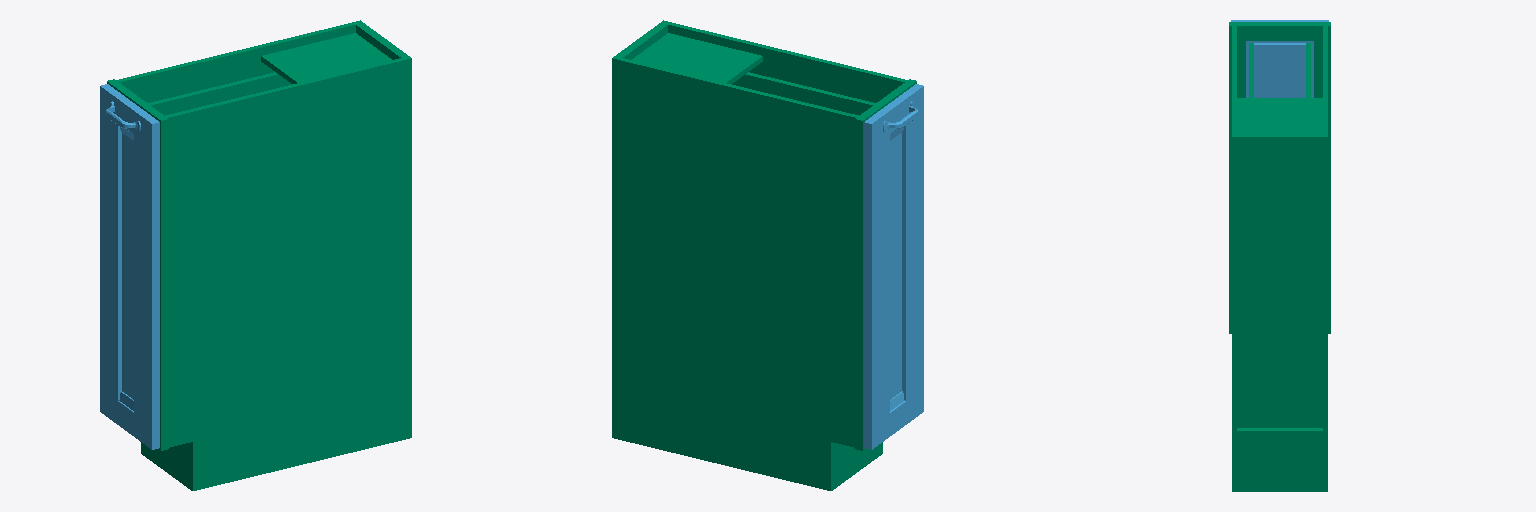
The robot description file, URDF, robot "partnet_1af4a1dfa4f94cd44da5feafe6f1c8fc":
<?xml version="1.0" ?>
<robot name="partnet_1af4a1dfa4f94cd44da5feafe6f1c8fc">
	<link name="base"/>
	<link name="link_0">
		<visual name="shelf-3">
			<origin xyz="0.007238580637776621 -0.23245800025737012 -0.5863339900970459"/>
			<geometry>
				<mesh filename="textured_objs/original-23.obj"/>
			</geometry>
		</visual>
		<visual name="shelf-4">
			<origin xyz="0.007238580637776621 -0.23245800025737012 -0.5863339900970459"/>
			<geometry>
				<mesh filename="textured_objs/original-34.obj"/>
			</geometry>
		</visual>
		<visual name="shelf-5">
			<origin xyz="0.007238580637776621 -0.23245800025737012 -0.5863339900970459"/>
			<geometry>
				<mesh filename="textured_objs/original-38.obj"/>
			</geometry>
		</visual>
		<visual name="cabinet_door_surface-7">
			<origin xyz="0.007238580637776621 -0.23245800025737012 -0.5863339900970459"/>
			<geometry>
				<mesh filename="textured_objs/original-42.obj"/>
			</geometry>
		</visual>
		<visual name="cabinet_door_surface-7">
			<origin xyz="0.007238580637776621 -0.23245800025737012 -0.5863339900970459"/>
			<geometry>
				<mesh filename="textured_objs/original-45.obj"/>
			</geometry>
		</visual>
		<visual name="cabinet_door_surface-7">
			<origin xyz="0.007238580637776621 -0.23245800025737012 -0.5863339900970459"/>
			<geometry>
				<mesh filename="textured_objs/original-43.obj"/>
			</geometry>
		</visual>
		<visual name="cabinet_door_surface-7">
			<origin xyz="0.007238580637776621 -0.23245800025737012 -0.5863339900970459"/>
			<geometry>
				<mesh filename="textured_objs/original-48.obj"/>
			</geometry>
		</visual>
		<visual name="cabinet_door_surface-7">
			<origin xyz="0.007238580637776621 -0.23245800025737012 -0.5863339900970459"/>
			<geometry>
				<mesh filename="textured_objs/original-44.obj"/>
			</geometry>
		</visual>
		<visual name="cabinet_door_surface-7">
			<origin xyz="0.007238580637776621 -0.23245800025737012 -0.5863339900970459"/>
			<geometry>
				<mesh filename="textured_objs/original-29.obj"/>
			</geometry>
		</visual>
		<visual name="cabinet_door_surface-7">
			<origin xyz="0.007238580637776621 -0.23245800025737012 -0.5863339900970459"/>
			<geometry>
				<mesh filename="textured_objs/original-47.obj"/>
			</geometry>
		</visual>
		<visual name="handle-8">
			<origin xyz="0.007238580637776621 -0.23245800025737012 -0.5863339900970459"/>
			<geometry>
				<mesh filename="textured_objs/original-49.obj"/>
			</geometry>
		</visual>
		<collision>
			<origin xyz="0.007238580637776621 -0.23245800025737012 -0.5863339900970459"/>
			<geometry>
				<mesh filename="textured_objs/original-23.obj"/>
			</geometry>
		</collision>
		<collision>
			<origin xyz="0.007238580637776621 -0.23245800025737012 -0.5863339900970459"/>
			<geometry>
				<mesh filename="textured_objs/original-34.obj"/>
			</geometry>
		</collision>
		<collision>
			<origin xyz="0.007238580637776621 -0.23245800025737012 -0.5863339900970459"/>
			<geometry>
				<mesh filename="textured_objs/original-38.obj"/>
			</geometry>
		</collision>
		<collision>
			<origin xyz="0.007238580637776621 -0.23245800025737012 -0.5863339900970459"/>
			<geometry>
				<mesh filename="textured_objs/original-42.obj"/>
			</geometry>
		</collision>
		<collision>
			<origin xyz="0.007238580637776621 -0.23245800025737012 -0.5863339900970459"/>
			<geometry>
				<mesh filename="textured_objs/original-45.obj"/>
			</geometry>
		</collision>
		<collision>
			<origin xyz="0.007238580637776621 -0.23245800025737012 -0.5863339900970459"/>
			<geometry>
				<mesh filename="textured_objs/original-43.obj"/>
			</geometry>
		</collision>
		<collision>
			<origin xyz="0.007238580637776621 -0.23245800025737012 -0.5863339900970459"/>
			<geometry>
				<mesh filename="textured_objs/original-48.obj"/>
			</geometry>
		</collision>
		<collision>
			<origin xyz="0.007238580637776621 -0.23245800025737012 -0.5863339900970459"/>
			<geometry>
				<mesh filename="textured_objs/original-44.obj"/>
			</geometry>
		</collision>
		<collision>
			<origin xyz="0.007238580637776621 -0.23245800025737012 -0.5863339900970459"/>
			<geometry>
				<mesh filename="textured_objs/original-29.obj"/>
			</geometry>
		</collision>
		<collision>
			<origin xyz="0.007238580637776621 -0.23245800025737012 -0.5863339900970459"/>
			<geometry>
				<mesh filename="textured_objs/original-47.obj"/>
			</geometry>
		</collision>
		<collision>
			<origin xyz="0.007238580637776621 -0.23245800025737012 -0.5863339900970459"/>
			<geometry>
				<mesh filename="textured_objs/original-49.obj"/>
			</geometry>
		</collision>
	</link>
	<joint name="joint_0" type="prismatic">
		<origin xyz="-0.007238580637776621 0.23245800025737012 0.5863339900970459"/>
		<axis xyz="0 0 1"/>
		<child link="link_0"/>
		<parent link="link_1"/>
		<limit lower="0" upper="0.8799999999999999"/>
	</joint>
	<link name="link_1">
		<visual name="vertical_side_panel-16">
			<origin xyz="0 0 0"/>
			<geometry>
				<mesh filename="textured_objs/original-11.obj"/>
			</geometry>
		</visual>
		<visual name="vertical_side_panel-16">
			<origin xyz="0 0 0"/>
			<geometry>
				<mesh filename="textured_objs/original-10.obj"/>
			</geometry>
		</visual>
		<visual name="vertical_side_panel-17">
			<origin xyz="0 0 0"/>
			<geometry>
				<mesh filename="textured_objs/original-15.obj"/>
			</geometry>
		</visual>
		<visual name="vertical_side_panel-17">
			<origin xyz="0 0 0"/>
			<geometry>
				<mesh filename="textured_objs/original-14.obj"/>
			</geometry>
		</visual>
		<visual name="back_panel-18">
			<origin xyz="0 0 0"/>
			<geometry>
				<mesh filename="textured_objs/original-30.obj"/>
			</geometry>
		</visual>
		<visual name="back_panel-18">
			<origin xyz="0 0 0"/>
			<geometry>
				<mesh filename="textured_objs/original-50.obj"/>
			</geometry>
		</visual>
		<visual name="back_panel-18">
			<origin xyz="0 0 0"/>
			<geometry>
				<mesh filename="textured_objs/original-5.obj"/>
			</geometry>
		</visual>
		<visual name="bottom_panel-19">
			<origin xyz="0 0 0"/>
			<geometry>
				<mesh filename="textured_objs/original-2.obj"/>
			</geometry>
		</visual>
		<visual name="top_panel-20">
			<origin xyz="0 0 0"/>
			<geometry>
				<mesh filename="textured_objs/original-19.obj"/>
			</geometry>
		</visual>
		<visual name="frame_vertical_bar-21">
			<origin xyz="0 0 0"/>
			<geometry>
				<mesh filename="textured_objs/original-25.obj"/>
			</geometry>
		</visual>
		<visual name="frame_vertical_bar-22">
			<origin xyz="0 0 0"/>
			<geometry>
				<mesh filename="textured_objs/original-26.obj"/>
			</geometry>
		</visual>
		<visual name="frame_vertical_bar-23">
			<origin xyz="0 0 0"/>
			<geometry>
				<mesh filename="textured_objs/original-27.obj"/>
			</geometry>
		</visual>
		<visual name="frame_vertical_bar-24">
			<origin xyz="0 0 0"/>
			<geometry>
				<mesh filename="textured_objs/original-24.obj"/>
			</geometry>
		</visual>
		<visual name="frame_vertical_bar-25">
			<origin xyz="0 0 0"/>
			<geometry>
				<mesh filename="textured_objs/original-3.obj"/>
			</geometry>
		</visual>
		<visual name="frame_vertical_bar-26">
			<origin xyz="0 0 0"/>
			<geometry>
				<mesh filename="textured_objs/original-7.obj"/>
			</geometry>
		</visual>
		<visual name="frame_horizontal_bar-27">
			<origin xyz="0 0 0"/>
			<geometry>
				<mesh filename="textured_objs/original-8.obj"/>
			</geometry>
		</visual>
		<visual name="frame_horizontal_bar-28">
			<origin xyz="0 0 0"/>
			<geometry>
				<mesh filename="textured_objs/original-28.obj"/>
			</geometry>
		</visual>
		<visual name="frame_horizontal_bar-29">
			<origin xyz="0 0 0"/>
			<geometry>
				<mesh filename="textured_objs/original-39.obj"/>
			</geometry>
		</visual>
		<visual name="frame_horizontal_bar-30">
			<origin xyz="0 0 0"/>
			<geometry>
				<mesh filename="textured_objs/original-32.obj"/>
			</geometry>
		</visual>
		<visual name="frame_horizontal_bar-31">
			<origin xyz="0 0 0"/>
			<geometry>
				<mesh filename="textured_objs/original-33.obj"/>
			</geometry>
		</visual>
		<visual name="frame_horizontal_bar-32">
			<origin xyz="0 0 0"/>
			<geometry>
				<mesh filename="textured_objs/original-36.obj"/>
			</geometry>
		</visual>
		<visual name="frame_horizontal_bar-33">
			<origin xyz="0 0 0"/>
			<geometry>
				<mesh filename="textured_objs/original-37.obj"/>
			</geometry>
		</visual>
		<visual name="frame_horizontal_bar-34">
			<origin xyz="0 0 0"/>
			<geometry>
				<mesh filename="textured_objs/original-4.obj"/>
			</geometry>
		</visual>
		<visual name="frame_horizontal_bar-35">
			<origin xyz="0 0 0"/>
			<geometry>
				<mesh filename="textured_objs/original-22.obj"/>
			</geometry>
		</visual>
		<visual name="frame_horizontal_bar-36">
			<origin xyz="0 0 0"/>
			<geometry>
				<mesh filename="textured_objs/original-40.obj"/>
			</geometry>
		</visual>
		<visual name="frame_horizontal_bar-37">
			<origin xyz="0 0 0"/>
			<geometry>
				<mesh filename="textured_objs/original-6.obj"/>
			</geometry>
		</visual>
		<visual name="base_side_panel-12">
			<origin xyz="0 0 0"/>
			<geometry>
				<mesh filename="textured_objs/original-17.obj"/>
			</geometry>
		</visual>
		<visual name="base_side_panel-13">
			<origin xyz="0 0 0"/>
			<geometry>
				<mesh filename="textured_objs/original-12.obj"/>
			</geometry>
		</visual>
		<visual name="base_side_panel-14">
			<origin xyz="0 0 0"/>
			<geometry>
				<mesh filename="textured_objs/original-18.obj"/>
			</geometry>
		</visual>
		<visual name="base_side_panel-15">
			<origin xyz="0 0 0"/>
			<geometry>
				<mesh filename="textured_objs/original-16.obj"/>
			</geometry>
		</visual>
		<collision>
			<origin xyz="0 0 0"/>
			<geometry>
				<mesh filename="textured_objs/original-11.obj"/>
			</geometry>
		</collision>
		<collision>
			<origin xyz="0 0 0"/>
			<geometry>
				<mesh filename="textured_objs/original-10.obj"/>
			</geometry>
		</collision>
		<collision>
			<origin xyz="0 0 0"/>
			<geometry>
				<mesh filename="textured_objs/original-15.obj"/>
			</geometry>
		</collision>
		<collision>
			<origin xyz="0 0 0"/>
			<geometry>
				<mesh filename="textured_objs/original-14.obj"/>
			</geometry>
		</collision>
		<collision>
			<origin xyz="0 0 0"/>
			<geometry>
				<mesh filename="textured_objs/original-30.obj"/>
			</geometry>
		</collision>
		<collision>
			<origin xyz="0 0 0"/>
			<geometry>
				<mesh filename="textured_objs/original-50.obj"/>
			</geometry>
		</collision>
		<collision>
			<origin xyz="0 0 0"/>
			<geometry>
				<mesh filename="textured_objs/original-5.obj"/>
			</geometry>
		</collision>
		<collision>
			<origin xyz="0 0 0"/>
			<geometry>
				<mesh filename="textured_objs/original-2.obj"/>
			</geometry>
		</collision>
		<collision>
			<origin xyz="0 0 0"/>
			<geometry>
				<mesh filename="textured_objs/original-19.obj"/>
			</geometry>
		</collision>
		<collision>
			<origin xyz="0 0 0"/>
			<geometry>
				<mesh filename="textured_objs/original-25.obj"/>
			</geometry>
		</collision>
		<collision>
			<origin xyz="0 0 0"/>
			<geometry>
				<mesh filename="textured_objs/original-26.obj"/>
			</geometry>
		</collision>
		<collision>
			<origin xyz="0 0 0"/>
			<geometry>
				<mesh filename="textured_objs/original-27.obj"/>
			</geometry>
		</collision>
		<collision>
			<origin xyz="0 0 0"/>
			<geometry>
				<mesh filename="textured_objs/original-24.obj"/>
			</geometry>
		</collision>
		<collision>
			<origin xyz="0 0 0"/>
			<geometry>
				<mesh filename="textured_objs/original-3.obj"/>
			</geometry>
		</collision>
		<collision>
			<origin xyz="0 0 0"/>
			<geometry>
				<mesh filename="textured_objs/original-7.obj"/>
			</geometry>
		</collision>
		<collision>
			<origin xyz="0 0 0"/>
			<geometry>
				<mesh filename="textured_objs/original-8.obj"/>
			</geometry>
		</collision>
		<collision>
			<origin xyz="0 0 0"/>
			<geometry>
				<mesh filename="textured_objs/original-28.obj"/>
			</geometry>
		</collision>
		<collision>
			<origin xyz="0 0 0"/>
			<geometry>
				<mesh filename="textured_objs/original-39.obj"/>
			</geometry>
		</collision>
		<collision>
			<origin xyz="0 0 0"/>
			<geometry>
				<mesh filename="textured_objs/original-32.obj"/>
			</geometry>
		</collision>
		<collision>
			<origin xyz="0 0 0"/>
			<geometry>
				<mesh filename="textured_objs/original-33.obj"/>
			</geometry>
		</collision>
		<collision>
			<origin xyz="0 0 0"/>
			<geometry>
				<mesh filename="textured_objs/original-36.obj"/>
			</geometry>
		</collision>
		<collision>
			<origin xyz="0 0 0"/>
			<geometry>
				<mesh filename="textured_objs/original-37.obj"/>
			</geometry>
		</collision>
		<collision>
			<origin xyz="0 0 0"/>
			<geometry>
				<mesh filename="textured_objs/original-4.obj"/>
			</geometry>
		</collision>
		<collision>
			<origin xyz="0 0 0"/>
			<geometry>
				<mesh filename="textured_objs/original-22.obj"/>
			</geometry>
		</collision>
		<collision>
			<origin xyz="0 0 0"/>
			<geometry>
				<mesh filename="textured_objs/original-40.obj"/>
			</geometry>
		</collision>
		<collision>
			<origin xyz="0 0 0"/>
			<geometry>
				<mesh filename="textured_objs/original-6.obj"/>
			</geometry>
		</collision>
		<collision>
			<origin xyz="0 0 0"/>
			<geometry>
				<mesh filename="textured_objs/original-17.obj"/>
			</geometry>
		</collision>
		<collision>
			<origin xyz="0 0 0"/>
			<geometry>
				<mesh filename="textured_objs/original-12.obj"/>
			</geometry>
		</collision>
		<collision>
			<origin xyz="0 0 0"/>
			<geometry>
				<mesh filename="textured_objs/original-18.obj"/>
			</geometry>
		</collision>
		<collision>
			<origin xyz="0 0 0"/>
			<geometry>
				<mesh filename="textured_objs/original-16.obj"/>
			</geometry>
		</collision>
	</link>
	<joint name="joint_1" type="fixed">
		<origin rpy="1.570796326794897 0 -1.570796326794897" xyz="0 0 0"/>
		<child link="link_1"/>
		<parent link="base"/>
	</joint>
</robot>

--- Render facts (derived) ---
3 views of the same robot in one strip: view 1: azimuth 30°, elevation 25°; view 2: azimuth 150°, elevation 25°; view 3: azimuth 270°, elevation 25° (orthographic).
Robot: partnet_1af4a1dfa4f94cd44da5feafe6f1c8fc — 3 links, 2 joints (1 prismatic, 1 fixed); root link base; default pose: every joint at zero.
Links seen in each view (by area): view 1: link_1, link_0; view 2: link_1, link_0; view 3: link_1, link_0.
Link boxes in pixels (bbox=[...]): link_1: bbox=[107, 20, 411, 490]; link_0: bbox=[100, 84, 159, 449]; link_1: bbox=[612, 20, 916, 490]; link_0: bbox=[864, 84, 923, 449]; link_1: bbox=[1229, 22, 1330, 491]; link_0: bbox=[1231, 20, 1328, 97].
Size in the robot's own frame: 1.26 by 0.4378 by 1.68 metres.
41 mesh visuals loaded from 41 distinct referenced files (41 OBJ).
